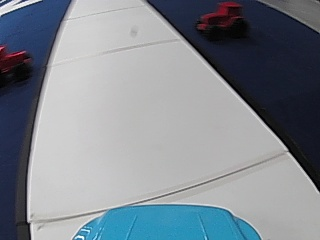tractor: (194, 1, 246, 41), (0, 44, 33, 83)
